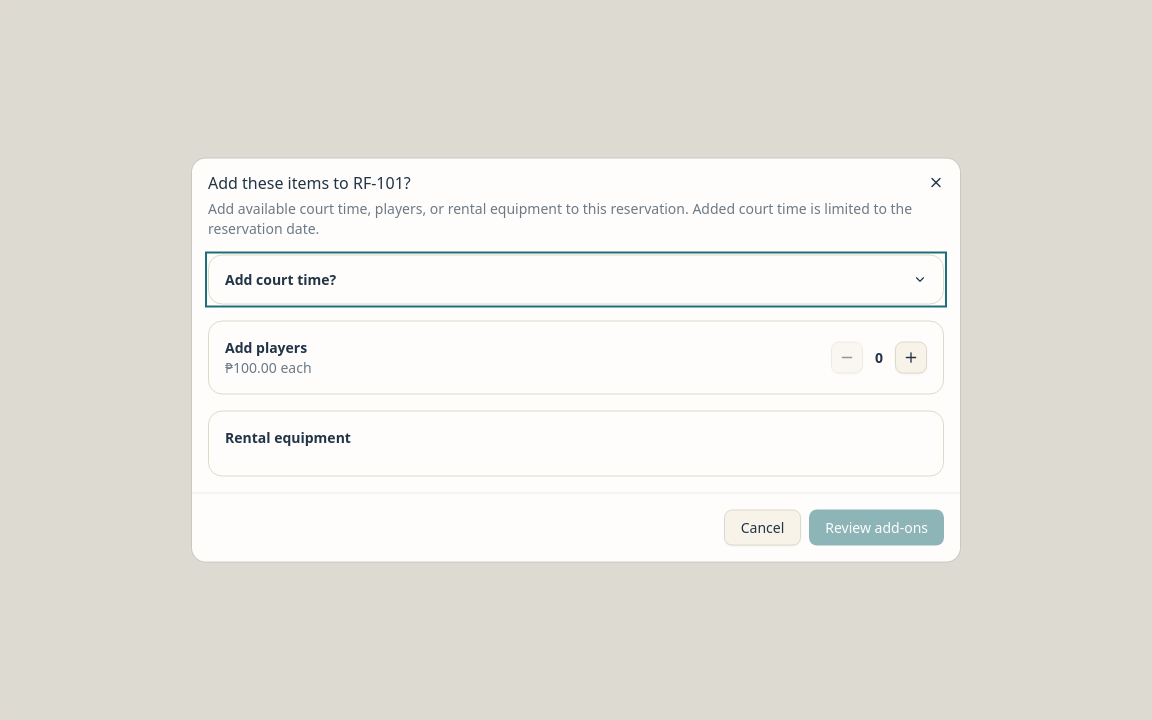
AddOnsDialog › uses the fresh booking date and credit after an earlier reschedule
Click the button named "Add one additional player" at [911, 358], box [895, 342, 927, 374]
(page scrolled)
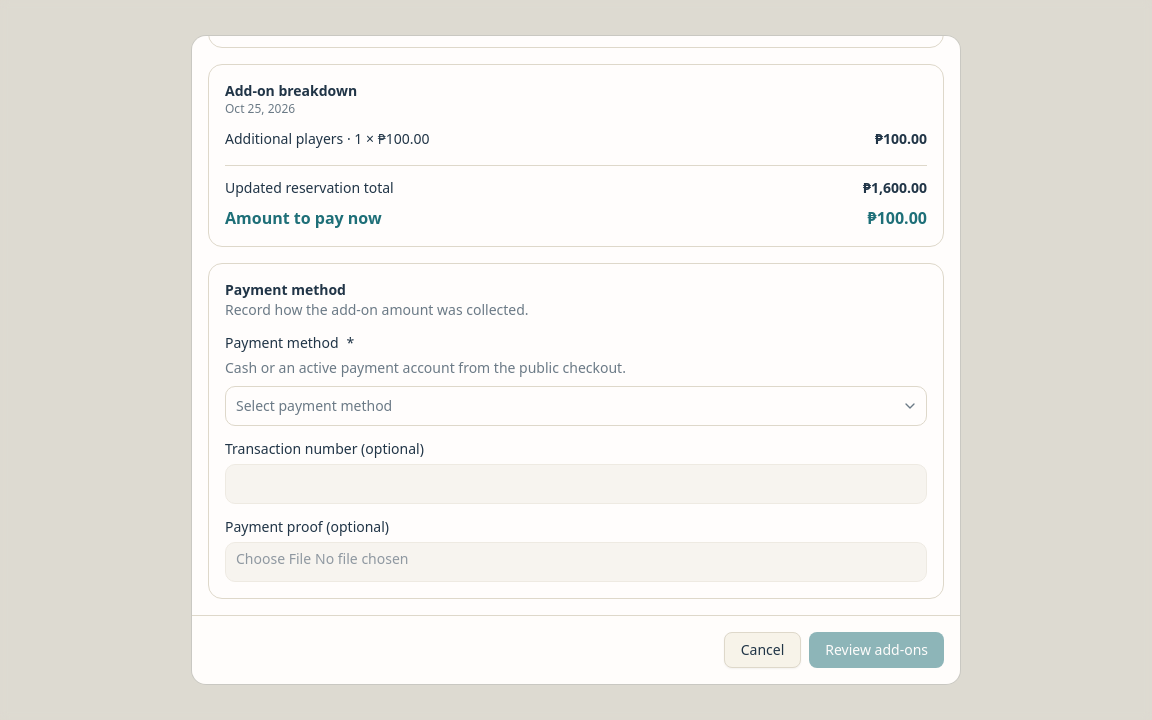
Check: the button "Review add-ons" is disabled, box [809, 632, 944, 668]
Check: the text "Oct 25, 2026" is shown, box [225, 100, 295, 117]
Check: the text "₱1,600.00" is shown, box [863, 178, 927, 198]
